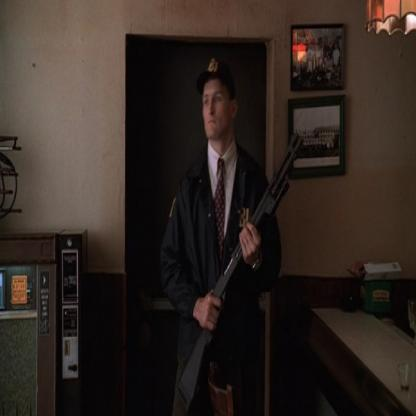Gun: (175, 129, 305, 415)
